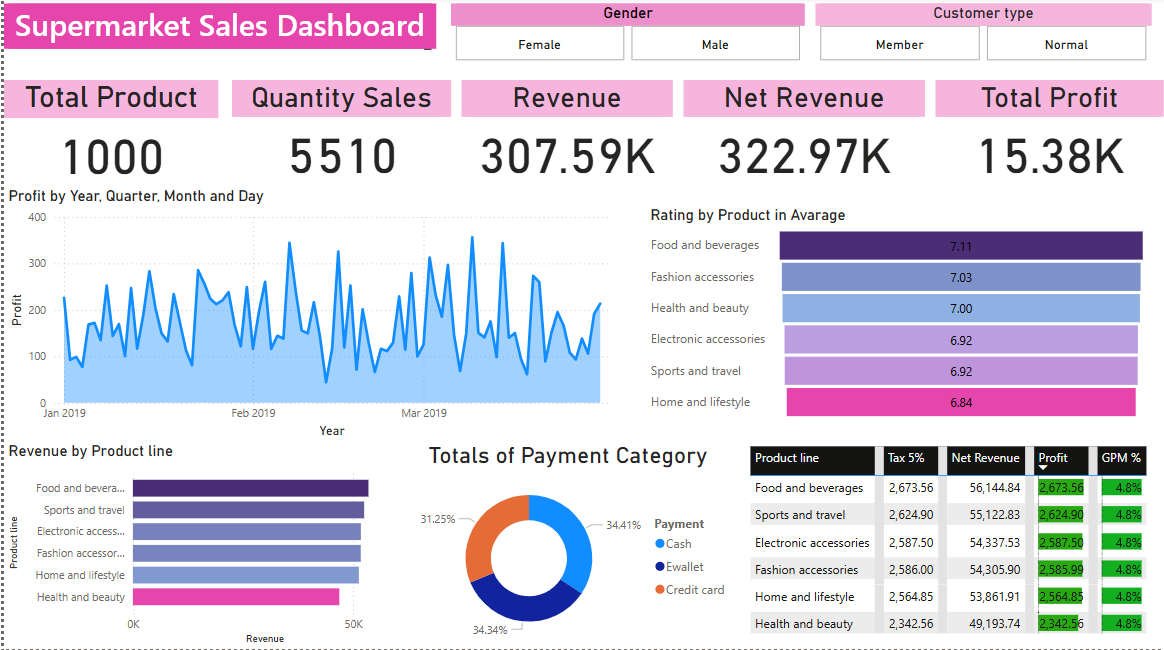

What the dashboard file says about the page in this screenshot:
{"tool":"powerbi","page":{"name":"Page 1","canvas":[1280,720],"ordinal":0},"visuals":[{"type":"tableEx","fields":{"Values":["supermarket_sales.Product line","supermarket_sales.Tax 5%","supermarket_sales.Net Revenue","supermarket_sales.Profit","supermarket_sales.GPM %"]},"box":[818.3,492,462.2,226.9],"z":0,"group":"g1"},{"type":"donutChart","title":"Totals of Payment Category","fields":{"Y":["Sum(supermarket_sales.Quantity)"],"Category":["supermarket_sales.Payment"]},"box":[435.7,492,374.4,228.6],"z":1000,"group":"g1"},{"type":"barChart","fields":{"Y":["supermarket_sales.Revenue"],"Category":["supermarket_sales.Product line"]},"box":[0,492,448.9,228.6],"z":2000,"group":"g1"},{"type":"areaChart","fields":{"Y":["supermarket_sales.Profit"],"Category":["supermarket_sales.Date.Variation.Date Hierarchy.Year","supermarket_sales.Date.Variation.Date Hierarchy.Quarter","supermarket_sales.Date.Variation.Date Hierarchy.Month","supermarket_sales.Date.Variation.Date Hierarchy.Day"]},"box":[0,210.4,689.1,281.6],"z":3000,"group":"g1"},{"type":"funnel","title":"Rating by Product in Avarage","fields":{"Y":["Avg(supermarket_sales.Rating)"],"Category":["supermarket_sales.Product line"]},"box":[709,231.9,558.2,240.2],"z":4000,"group":"g1"},{"type":"card","title":"Total Product","fields":{"Values":["CountNonNull(supermarket_sales.Product line)"]},"box":[0,92.8,236.9,117.6],"z":5000,"group":"g1"},{"type":"card","title":"Quantity Sales","fields":{"Values":["Sum(supermarket_sales.Quantity)"]},"box":[251.8,92.8,241.8,117.6],"z":6000,"group":"g1"},{"type":"card","title":"Revenue","fields":{"Values":["supermarket_sales.Revenue"]},"box":[505.2,92.8,233.6,117.6],"z":7000,"group":"g1"},{"type":"card","title":"Net Revenue","fields":{"Values":["supermarket_sales.Net Revenue"]},"box":[750.4,92.8,266.7,117.6],"z":8000,"group":"g1"},{"type":"card","title":"Total Profit","fields":{"Values":["supermarket_sales.Profit"]},"box":[1028.7,92.8,251.8,117.6],"z":9000,"group":"g1"},{"type":"advancedSlicerVisual","fields":{"Values":["supermarket_sales.Gender"]},"box":[493.6,8.3,390.9,67.9],"z":10000,"group":"g1"},{"type":"advancedSlicerVisual","fields":{"Values":["supermarket_sales.Customer type"]},"box":[896.2,8.3,371.1,67.9],"z":11000,"group":"g1"},{"type":"group","id":"g1","title":"Group 1","box":[0,8.3,1280,711.7],"z":11002},{"type":"textbox","title":"Supermarket Sales Dashboard","box":[0,8.3,477.1,56.3],"z":12000,"group":"g1"}]}

Visuals, with their boxes in screenshot pixels (x1, y1, x2, y2), scaled from the page's 1280x720 canvas onto the 1164x650 screenshot:
tableEx - supermarket_sales.Product line x supermarket_sales.Tax 5%: l=744, t=444, r=1163, b=649
"Totals of Payment Category" donutChart: l=396, t=444, r=737, b=649
barChart - supermarket_sales.Revenue x supermarket_sales.Product line: l=0, t=444, r=408, b=649
areaChart - supermarket_sales.Profit x supermarket_sales.Date.Variation.Date Hierarchy.Year: l=0, t=190, r=627, b=444
"Rating by Product in Avarage" funnel: l=645, t=209, r=1152, b=426
"Total Product" card: l=0, t=84, r=215, b=190
"Quantity Sales" card: l=229, t=84, r=449, b=190
"Revenue" card: l=459, t=84, r=672, b=190
"Net Revenue" card: l=682, t=84, r=925, b=190
"Total Profit" card: l=935, t=84, r=1163, b=190
advancedSlicerVisual - supermarket_sales.Gender: l=449, t=7, r=804, b=69
advancedSlicerVisual - supermarket_sales.Customer type: l=815, t=7, r=1152, b=69
"Group 1" group: l=0, t=7, r=1163, b=649
"Supermarket Sales Dashboard" textbox: l=0, t=7, r=434, b=58
